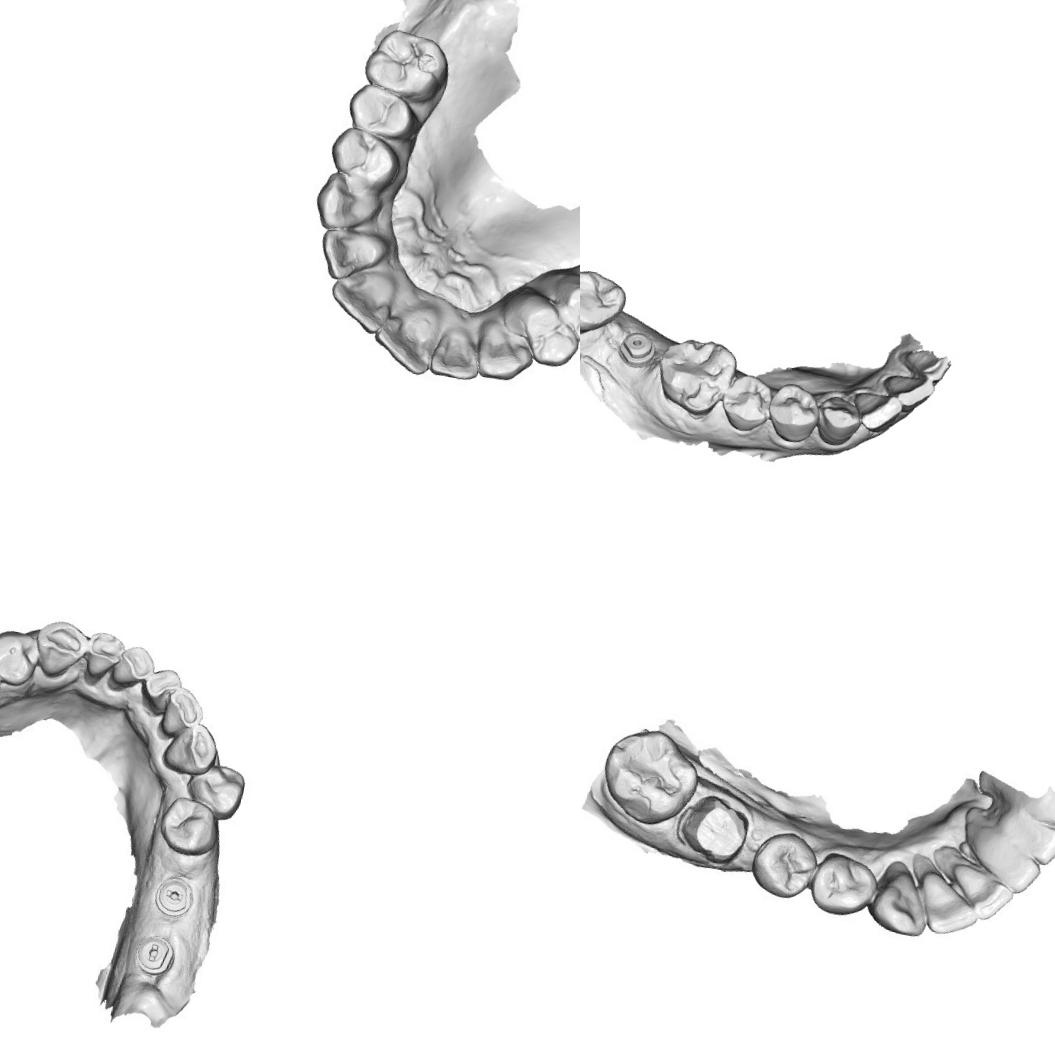canine: (306, 168, 388, 238), (871, 858, 930, 943), (470, 315, 540, 385), (27, 615, 90, 684), (158, 717, 220, 783), (812, 391, 866, 450)
crown: (669, 784, 753, 874)
implant: (613, 326, 659, 368)
implant_minus: (130, 930, 177, 977), (150, 872, 196, 920)
incisor: (968, 819, 1044, 896), (366, 305, 439, 378), (311, 222, 389, 288), (915, 862, 979, 938), (324, 267, 392, 337), (948, 854, 1016, 922), (424, 324, 488, 385), (991, 811, 1055, 871), (156, 681, 206, 743), (876, 368, 938, 414), (109, 638, 160, 693), (848, 388, 904, 436), (134, 662, 182, 718), (81, 626, 126, 680)
molar: (600, 727, 698, 827), (649, 330, 742, 424), (356, 23, 454, 103), (580, 261, 630, 342)
premolar: (748, 822, 818, 904), (326, 120, 406, 186), (511, 294, 580, 370), (342, 78, 422, 142), (152, 792, 225, 860), (810, 847, 880, 917), (763, 378, 824, 446), (184, 758, 248, 822), (714, 370, 776, 436), (0, 624, 42, 688), (553, 276, 580, 353)
